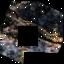Purslane: (3, 39, 54, 64)
